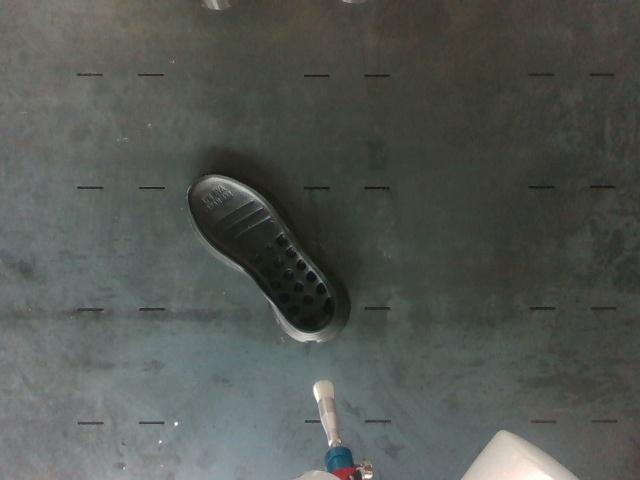shoes: (188, 177, 336, 333)
